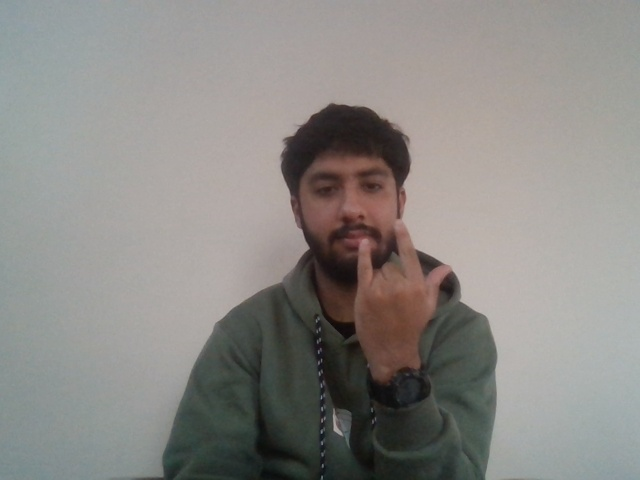IloveYou: (342, 226, 460, 344)
